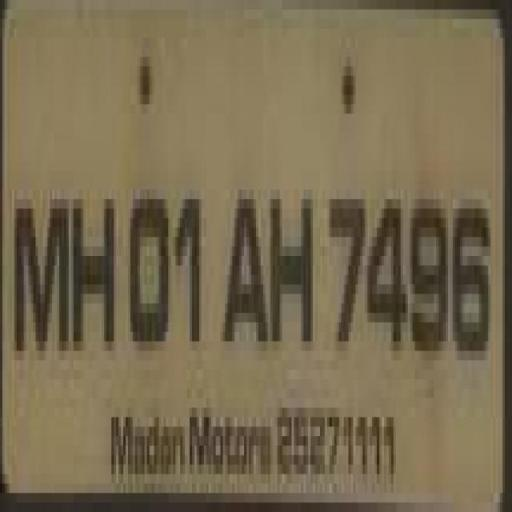number plate: (4, 18, 484, 482)
